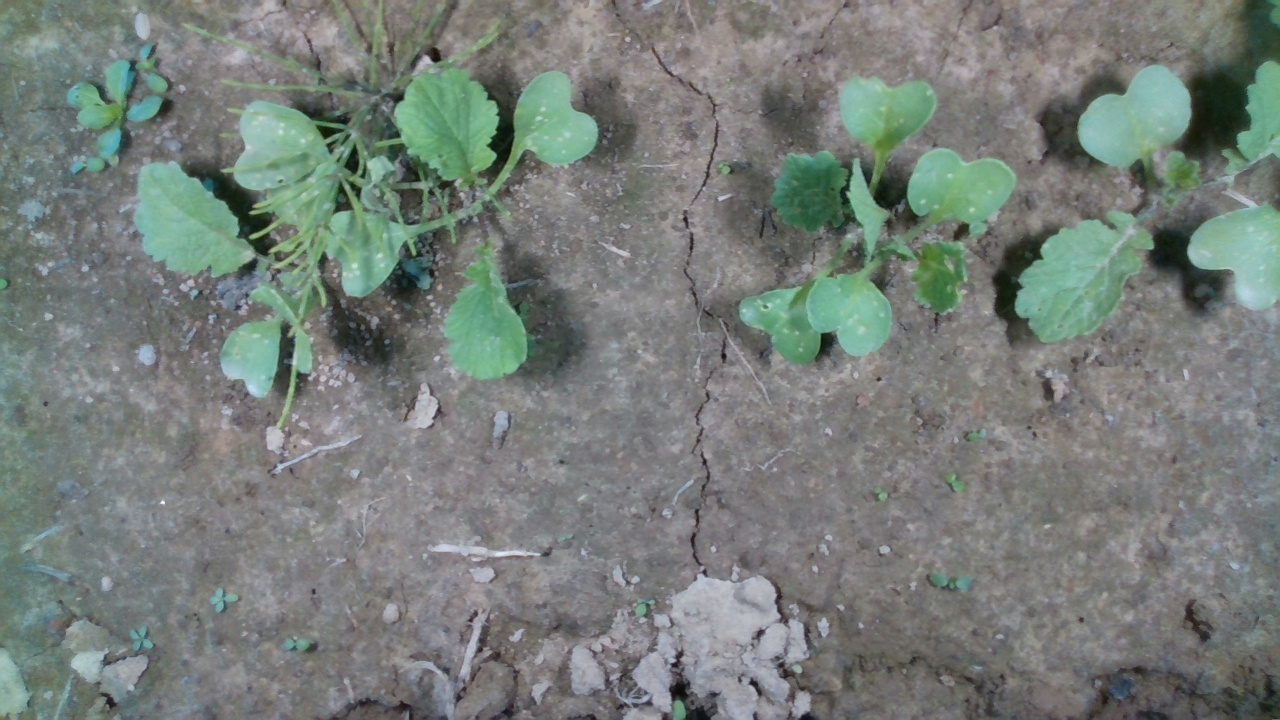weed: (927, 570, 974, 592), (207, 586, 240, 614), (128, 624, 156, 653), (278, 634, 317, 653), (943, 469, 965, 493), (716, 160, 731, 176)
